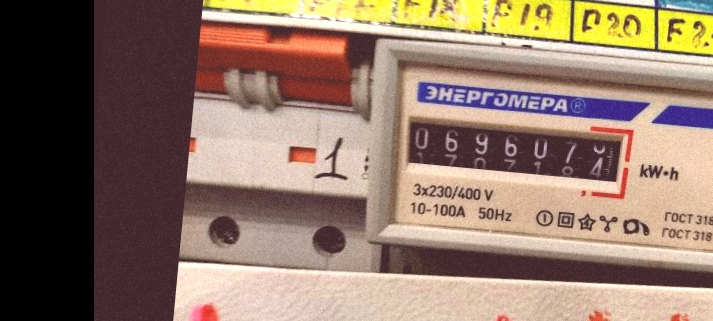0: (412, 124, 431, 150), (532, 134, 549, 160)
4: (587, 154, 605, 179)
6: (442, 127, 461, 153), (502, 132, 521, 157)
7: (561, 138, 579, 166)
9: (472, 130, 490, 155)
screen: (391, 101, 638, 197)
